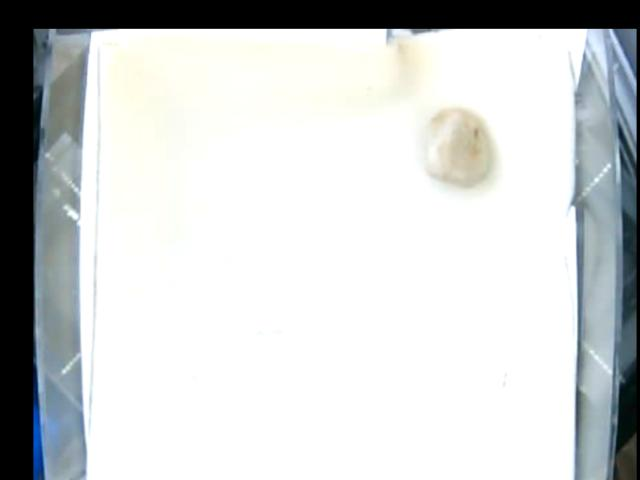Pebble: (423, 107, 493, 182)
